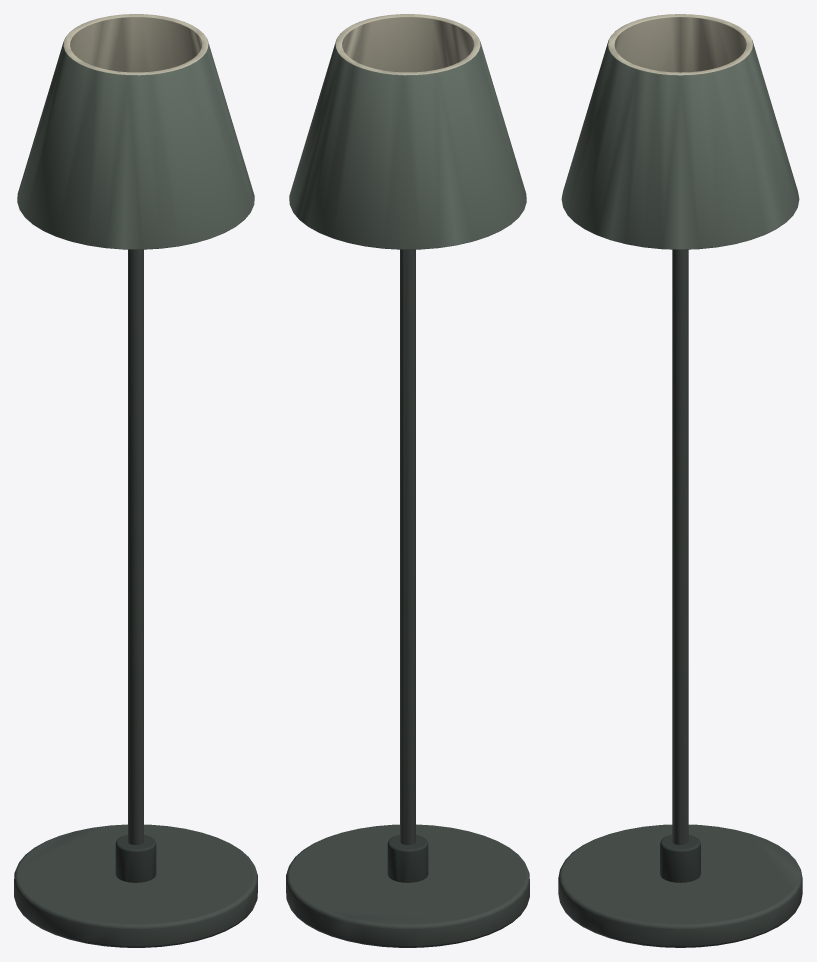
File: SM_Lamp_Floor.fbx
3 renders of one model, left to right at view 1: azimuth 30°, elevation 25°; view 2: azimuth 150°, elevation 25°; view 3: azimuth 270°, elevation 25°, orthographic.
Parts seen in each view (by area): view 1: SM_Lamp_Floor__Body; view 2: SM_Lamp_Floor__Body; view 3: SM_Lamp_Floor__Body.
Part boxes in pixels (<box>): SM_Lamp_Floor__Body: <box>14,14,257,947</box>; SM_Lamp_Floor__Body: <box>286,14,529,947</box>; SM_Lamp_Floor__Body: <box>558,14,802,947</box>.
Size of the model in its own units: 0.42 by 1.62 by 0.42.
